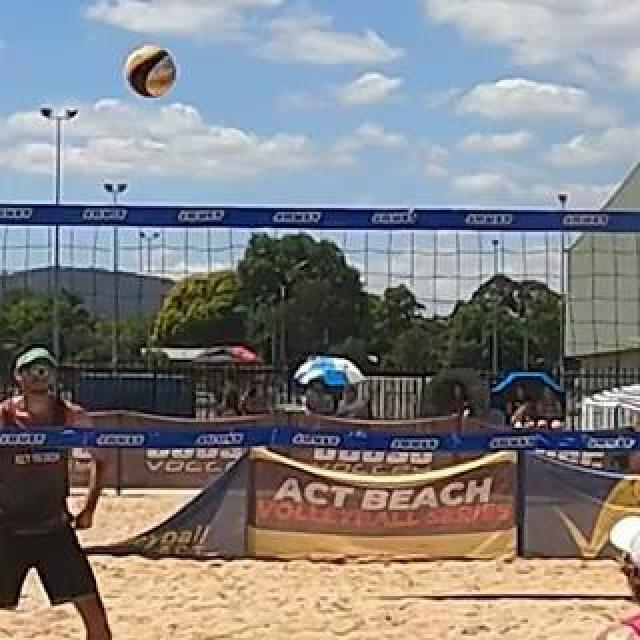volleyball: (125, 44, 179, 98)
